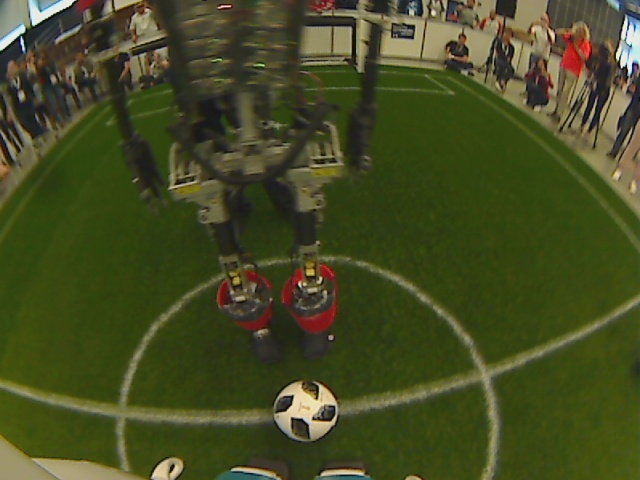ball: (271, 376, 342, 447)
goalpost: (299, 1, 370, 74)
robot: (72, 1, 392, 364)
